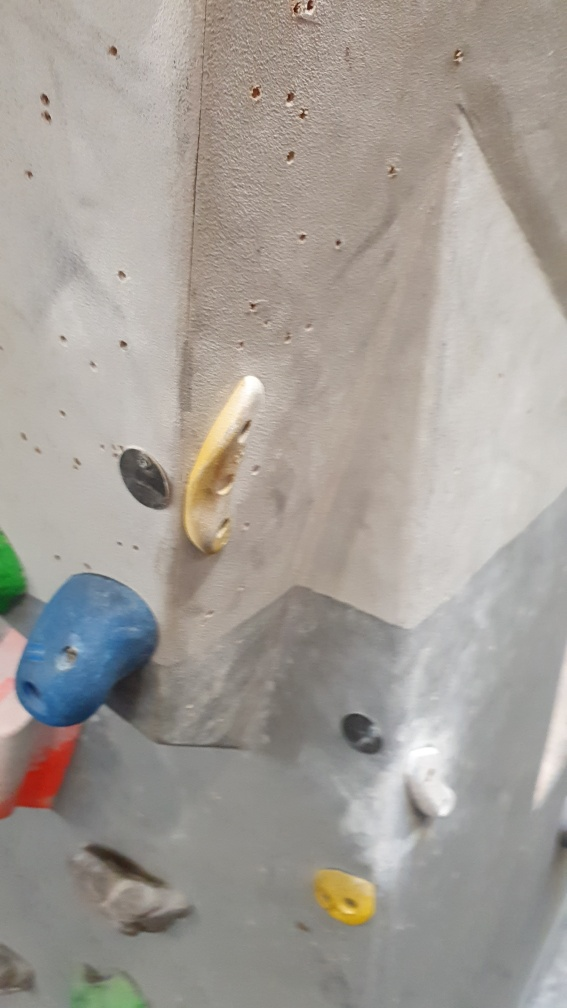Hand Start: (113, 441, 177, 512), (340, 709, 385, 757)
Jug: (66, 839, 198, 945)
Pinch: (1, 624, 97, 827)
